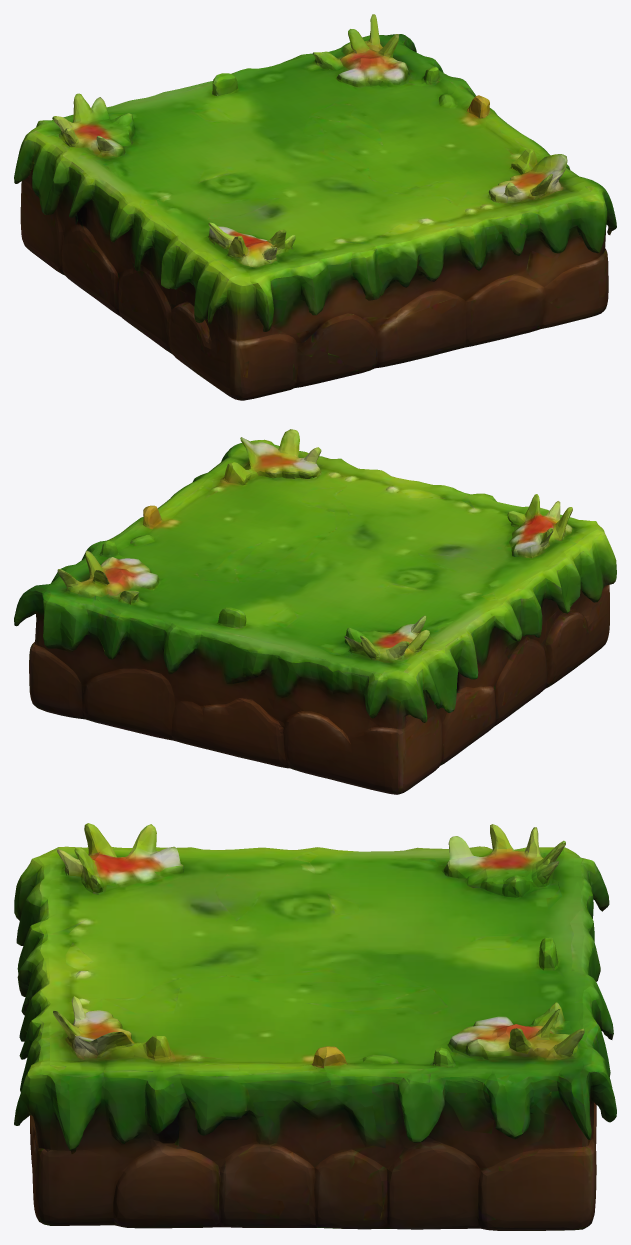
The picture shows the model from 3 angles, top to bottom: view 1: azimuth 30°, elevation 25°; view 2: azimuth 150°, elevation 25°; view 3: azimuth 270°, elevation 25°; orthographic projection. The views are drawn at different scales.
Visible parts, largest first — view 1: world; view 2: world; view 3: world.
Boxes of the visible parts, left/top/right/bottom form: world: left=14, top=14, right=616, bottom=400; world: left=14, top=429, right=616, bottom=794; world: left=14, top=823, right=616, bottom=1230.
Bounding box in the file's own units: 0.9963 × 0.3462 × 0.9938.
1 material, 1 textured.
